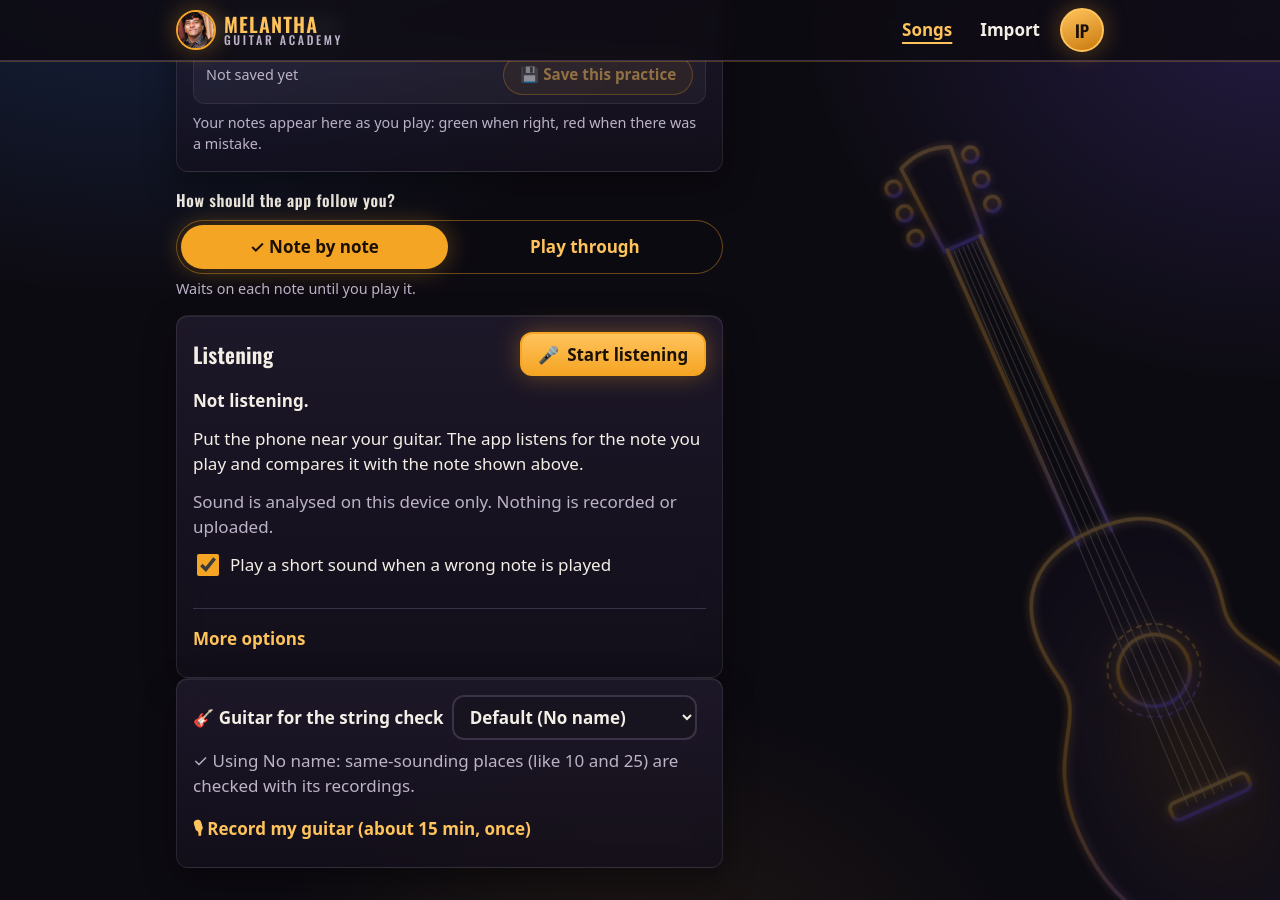
it: guitar for the string check, in practice (signed-in players) › off, remembered for this player on this device
(page scrolled)
Expected: the message with test id "guitar-choice-status" shows "Using No name", x1=193 y1=749 x2=678 y2=797
Select "Off" in the dropdown labelled "🎸 Guitar for the string check" at (574, 717), box x1=452 y1=695 x2=697 y2=740
(page scrolled)
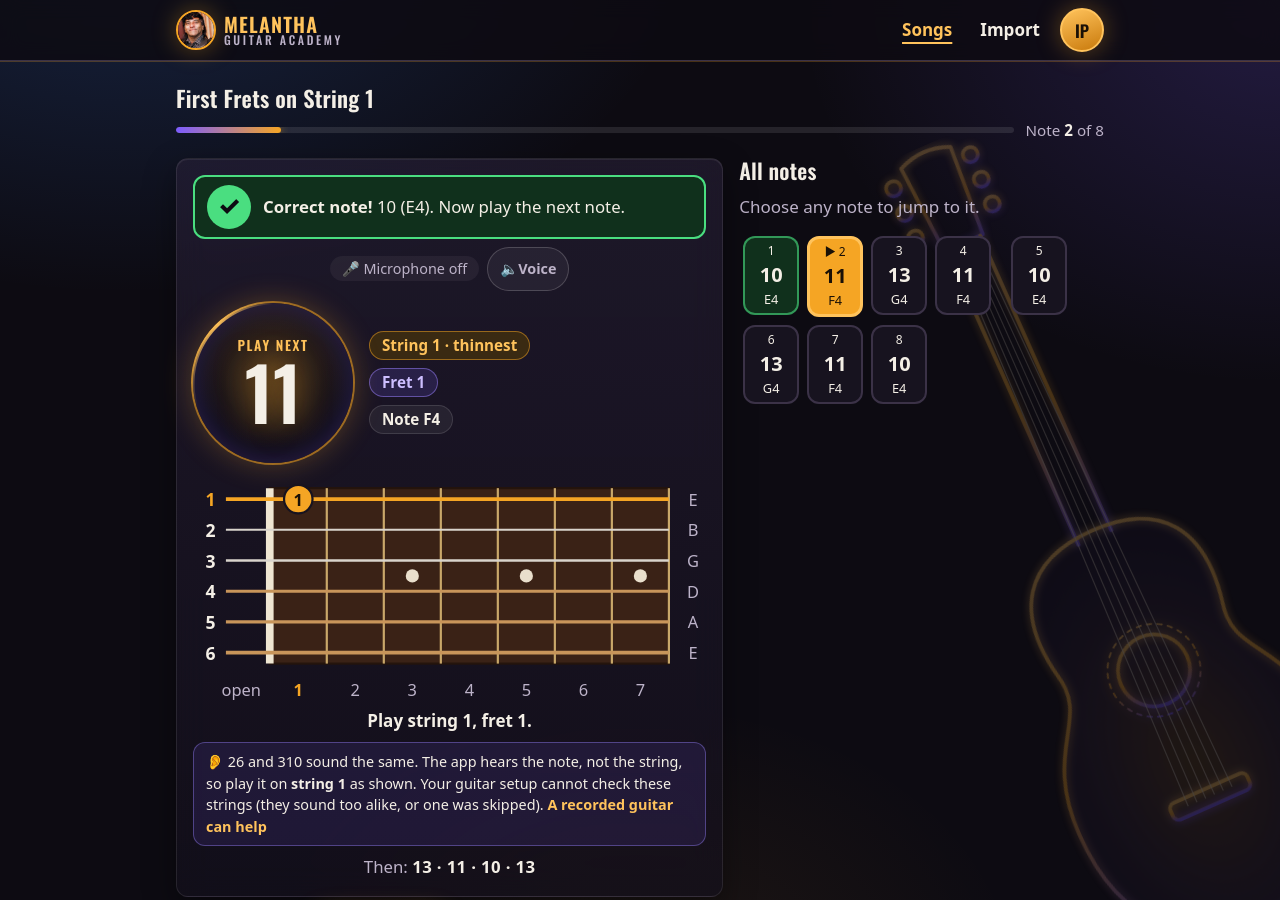
Expected: the element with test id "feedback" shows "Correct note!", x1=263 y1=195 x2=373 y2=218
